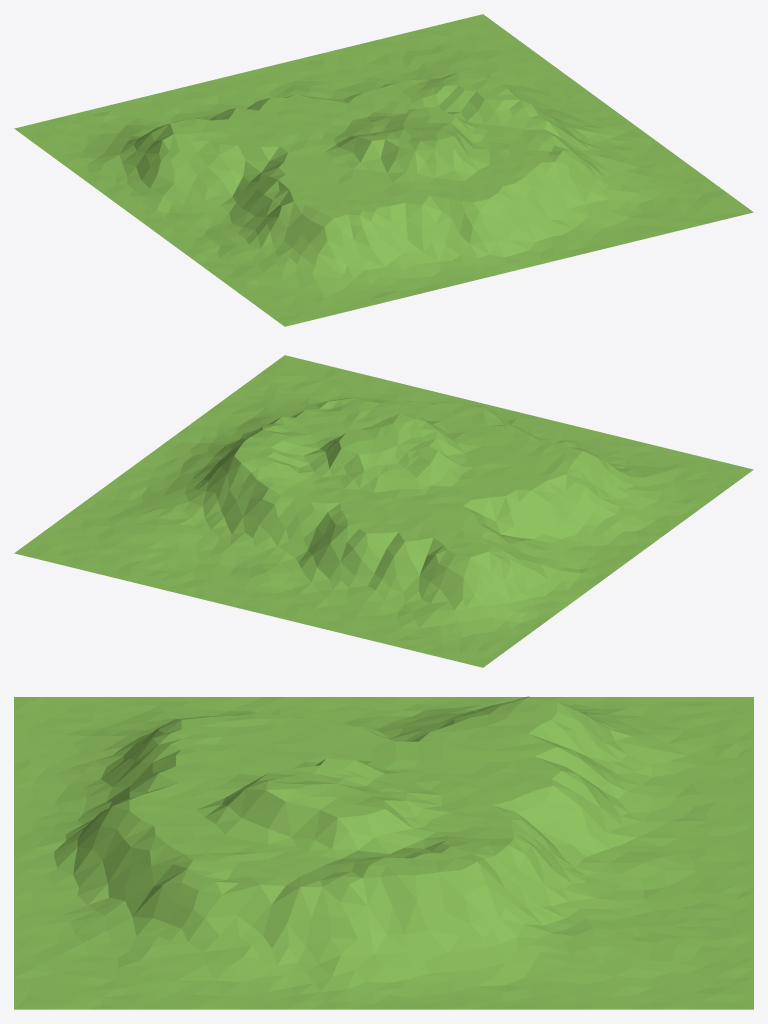
File: MT_Terrain_L_d_03.fbx
The picture shows the model from 3 angles, top to bottom: view 1: azimuth 30°, elevation 25°; view 2: azimuth 150°, elevation 25°; view 3: azimuth 270°, elevation 25°; orthographic projection. The views are drawn at different scales.
Parts seen in each view (by area): view 1: MT_Terrain_L_d_03; view 2: MT_Terrain_L_d_03; view 3: MT_Terrain_L_d_03.
Boxes of the visible parts, x1,y1,x2,y2 form: MT_Terrain_L_d_03: (14,14,753,326); MT_Terrain_L_d_03: (14,355,753,667); MT_Terrain_L_d_03: (14,696,753,1009).
Bounding box in the file's own units: 10000 × 1221 × 10000.
